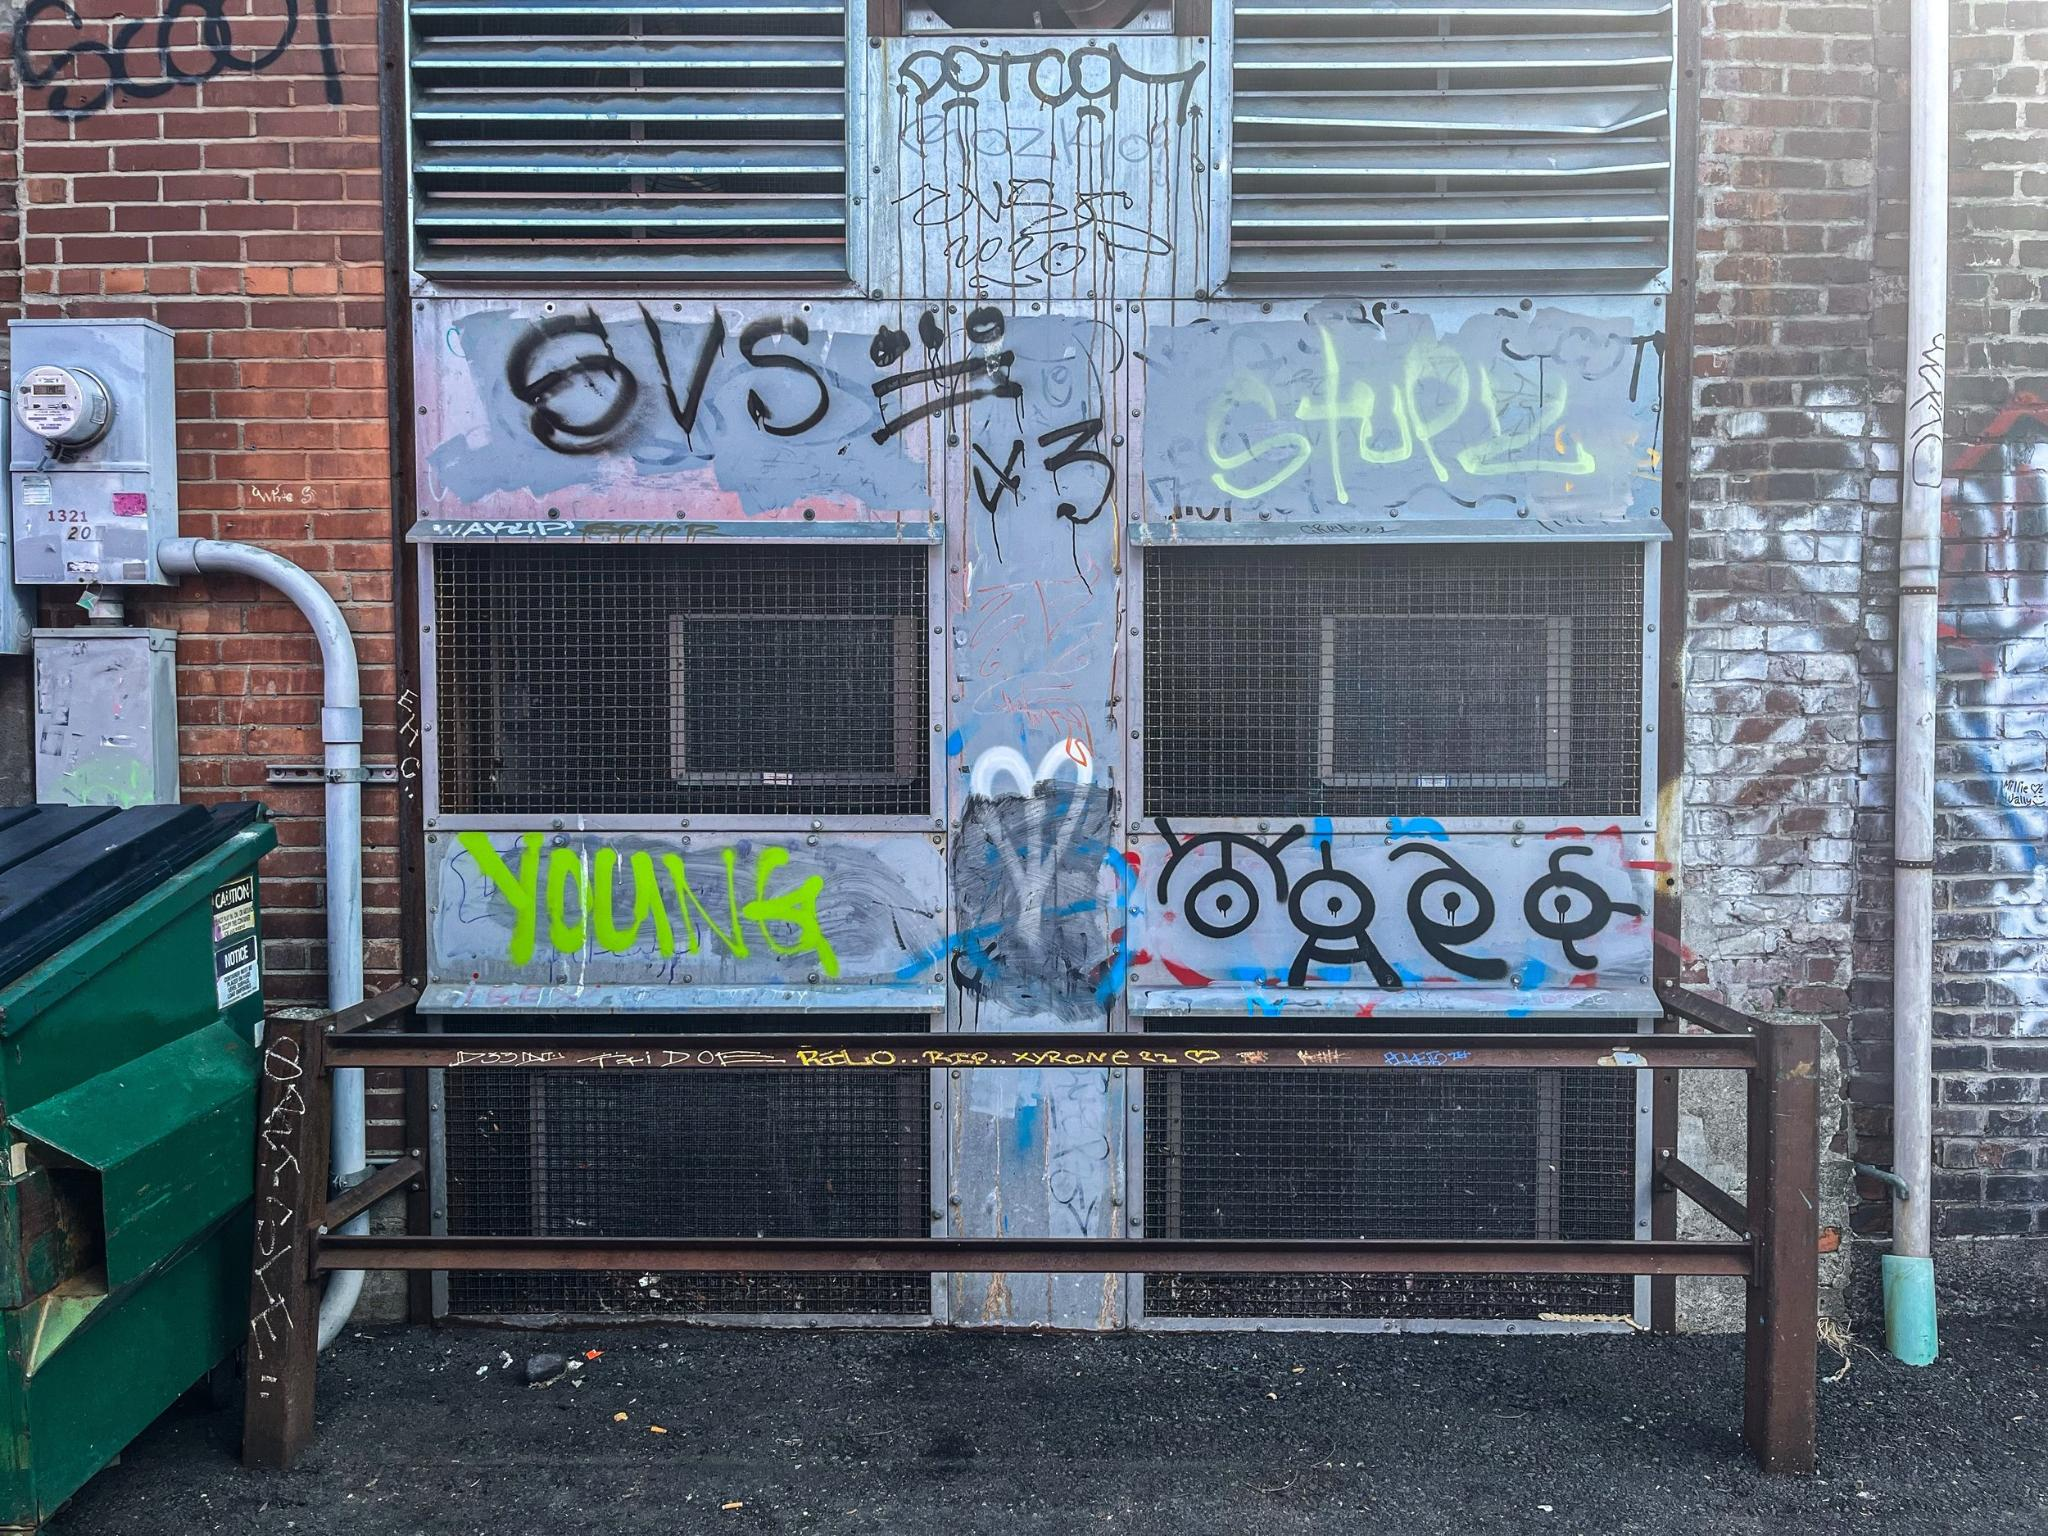graffiti: (1700, 385, 2048, 1052), (1176, 316, 1658, 528), (1135, 808, 1653, 1004), (438, 810, 942, 996), (867, 38, 1213, 304), (862, 304, 1130, 528), (950, 730, 1134, 1052), (502, 304, 848, 454), (2, 1, 368, 119), (434, 1044, 1486, 1068), (251, 1025, 317, 1395)
